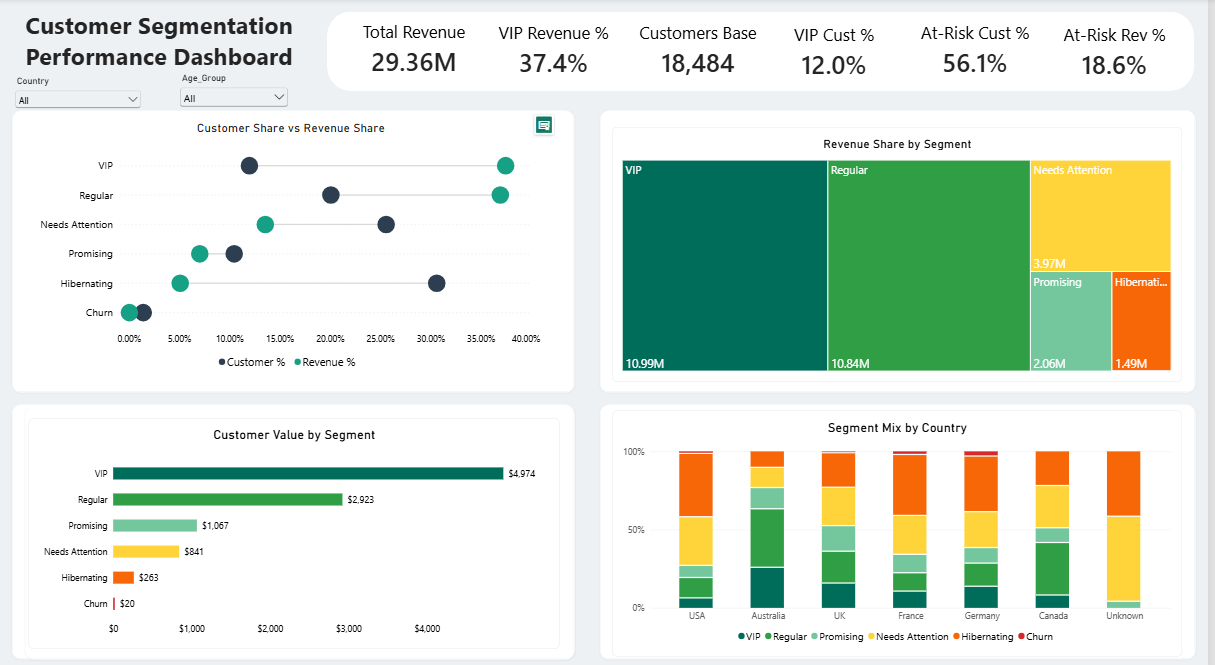

This screenshot's page, from the dashboard's own definition file:
{"tool":"powerbi","page":{"name":"Executive Overview","canvas":[1920,1080],"ordinal":0},"visuals":[{"type":"shape","box":[520.1,21.5,1379.1,126.5],"z":0},{"type":"shape","box":[954.4,178.9,947.2,448.6],"z":1000},{"type":"shape","box":[19.1,178.9,894.7,448.6],"z":2000},{"type":"shape","box":[19.1,646.6,894.7,405.6],"z":3000},{"type":"treemap","title":"Revenue Share by Segment","fields":{"Group":["rfm_customer_segments.customer_segmentation"],"Values":["_measure.Total Revenue"]},"box":[973.5,205.2,906.6,405.6],"z":4000},{"type":"shape","box":[40.6,649,873.2,403.2],"z":5000},{"type":"clusteredBarChart","title":"Customer Value by Segment","fields":{"Category":["rfm_customer_segments.customer_segmentation"],"Y":["_measure.Avg Revenue per Customer"]},"box":[45.3,668.1,844.6,367.4],"z":6000},{"type":"cardVisual","fields":{"Data":["_measure.Total customers"]},"box":[999.7,28.6,221.9,109.8],"z":7000},{"type":"cardVisual","fields":{"Data":["_measure.At-Risk Revenue %"]},"box":[1667.8,31.4,210,110],"z":8000},{"type":"cardVisual","fields":{"Data":["_measure.VIP Customers %"]},"box":[1222.1,30.5,210,110],"z":9000},{"type":"cardVisual","fields":{"Data":["_measure.Total Revenue"]},"box":[553.5,26.7,210,110],"z":10000},{"type":"cardVisual","fields":{"Data":["_measure.At-Risk Customers %"]},"box":[1444.9,28.6,210,110],"z":11000},{"type":"cardVisual","fields":{"Data":["_measure.VIP Revenue %"]},"box":[776.4,27.6,210,110],"z":12000},{"type":"dumbbellBarChart92D0D8832E2E4DDE9545D1DAC8CE0EA8","title":"Customer Share vs Revenue Share","fields":{"axis":["rfm_customer_segments.customer_segmentation"],"values":["_measure.Customer %","_measure.Revenue %"],"tooltips":["_measure.Revenue Advantage %"]},"box":[40.6,181.3,844.6,429.5],"z":13000},{"type":"shape","box":[954.4,646.6,947.2,405.6],"z":14000},{"type":"hundredPercentStackedColumnChart","title":"Segment Mix by Country","fields":{"Category":["rfm_customer_segments.country"],"Series":["rfm_customer_segments.customer_segmentation"],"Y":["_measure.Total Customers"]},"box":[973.5,656.1,906.6,391.3],"z":15000},{"type":"textbox","box":[40.6,16.7,482,162.2],"z":16000},{"type":"slicer","fields":{"Values":["rfm_customer_segments.country"]},"box":[19.1,124.1,210,54.9],"z":17000},{"type":"slicer","fields":{"Values":["rfm_customer_segments.age_bracket"]},"box":[281.5,119.3,181.3,54.9],"z":18000}]}

Visuals, with their boxes in screenshot pixels (x1, y1, x2, y2), scaled from the page's 1920x1080 canvas onto the 1215x665 screenshot:
shape: x1=329, y1=13, x2=1202, y2=91
shape: x1=604, y1=110, x2=1203, y2=386
shape: x1=12, y1=110, x2=578, y2=386
shape: x1=12, y1=398, x2=578, y2=648
"Revenue Share by Segment" treemap: x1=616, y1=126, x2=1190, y2=376
shape: x1=26, y1=400, x2=578, y2=648
"Customer Value by Segment" clusteredBarChart: x1=29, y1=411, x2=563, y2=638
cardVisual - _measure.Total customers: x1=633, y1=18, x2=773, y2=85
cardVisual - _measure.At-Risk Revenue %: x1=1055, y1=19, x2=1188, y2=87
cardVisual - _measure.VIP Customers %: x1=773, y1=19, x2=906, y2=87
cardVisual - _measure.Total Revenue: x1=350, y1=16, x2=483, y2=84
cardVisual - _measure.At-Risk Customers %: x1=914, y1=18, x2=1047, y2=85
cardVisual - _measure.VIP Revenue %: x1=491, y1=17, x2=624, y2=85
"Customer Share vs Revenue Share" dumbbellBarChart92D0D8832E2E4DDE9545D1DAC8CE0EA8: x1=26, y1=112, x2=560, y2=376
shape: x1=604, y1=398, x2=1203, y2=648
"Segment Mix by Country" hundredPercentStackedColumnChart: x1=616, y1=404, x2=1190, y2=645
textbox: x1=26, y1=10, x2=331, y2=110
slicer - rfm_customer_segments.country: x1=12, y1=76, x2=145, y2=110
slicer - rfm_customer_segments.age_bracket: x1=178, y1=73, x2=293, y2=107
